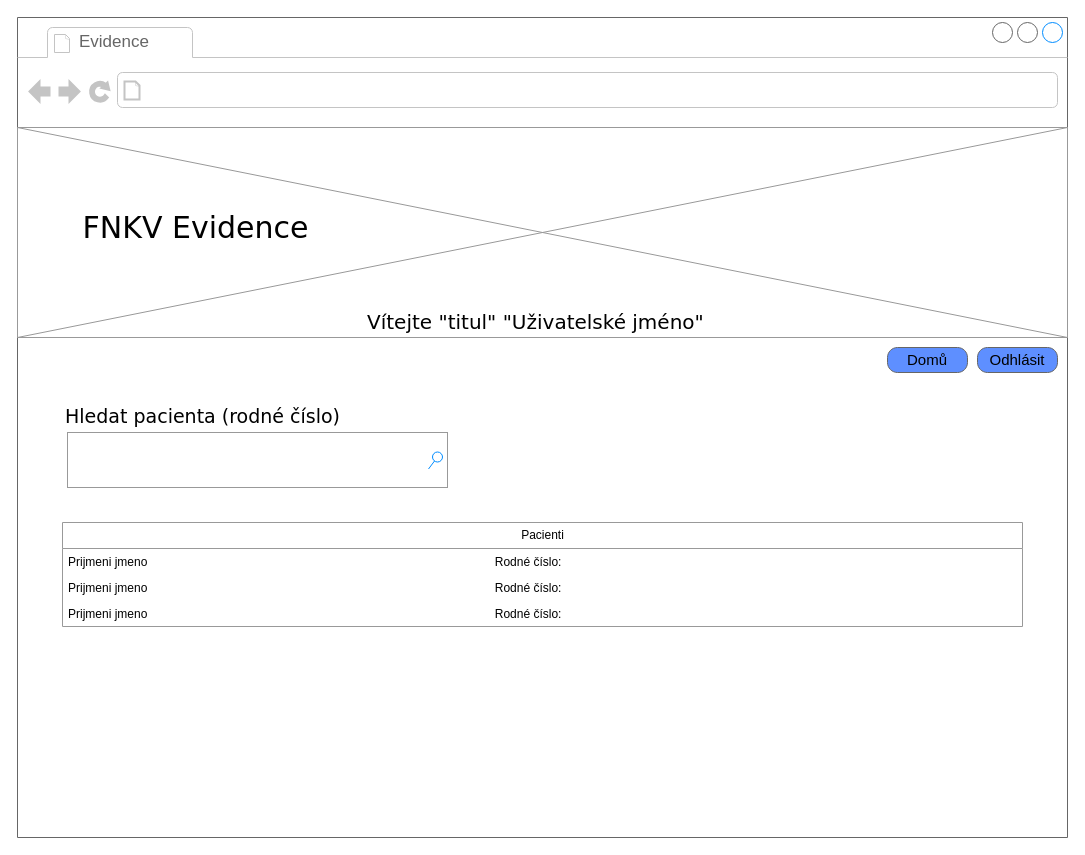
Image size: 1085x855. Some labels were removed from this diagram. Each missing label, with the centre of its shape:
"https://www.fnkv-evidence.cz" goes at point (272, 90).
"Search" goes at point (257, 460).
